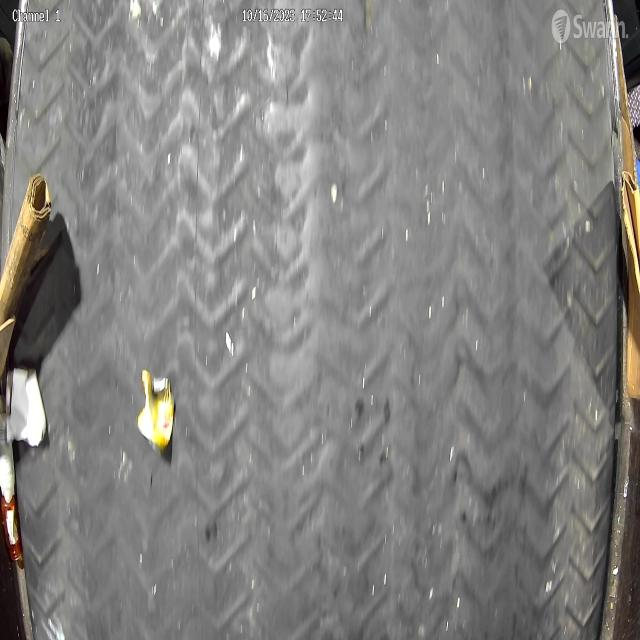can: (137, 368, 176, 456)
